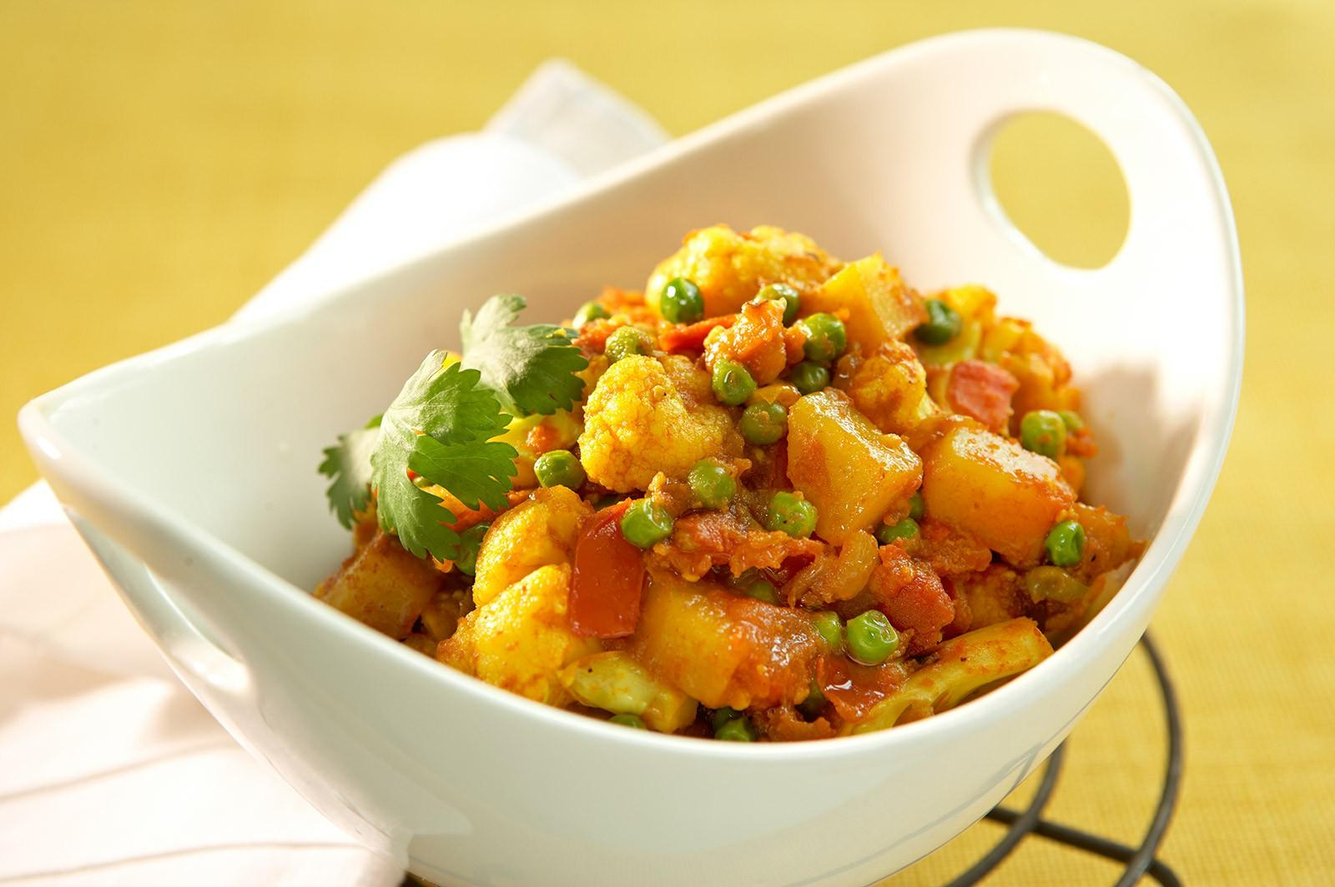AlooGobi: (316, 222, 1146, 743)
